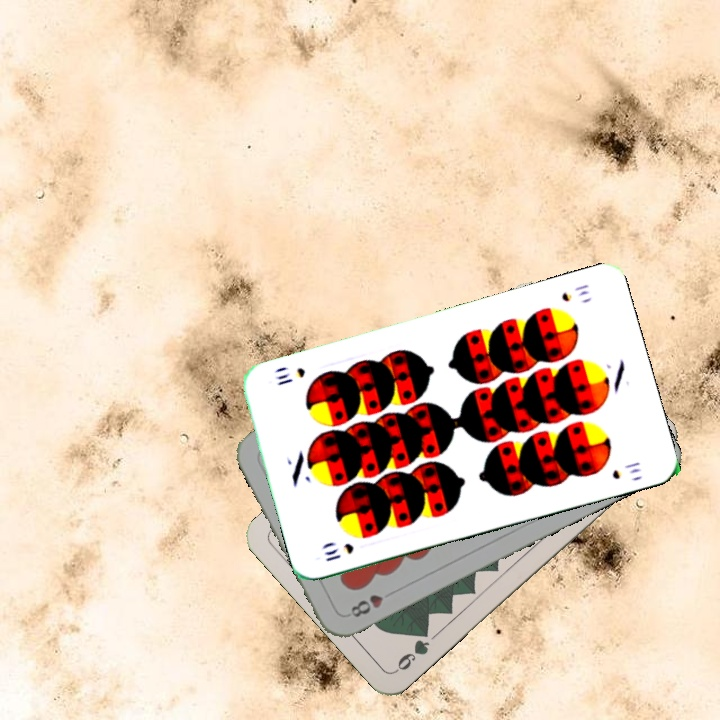G9: (391, 623, 433, 675)
H8: (346, 590, 386, 620)
S10: (320, 539, 357, 564), (557, 280, 592, 305)
